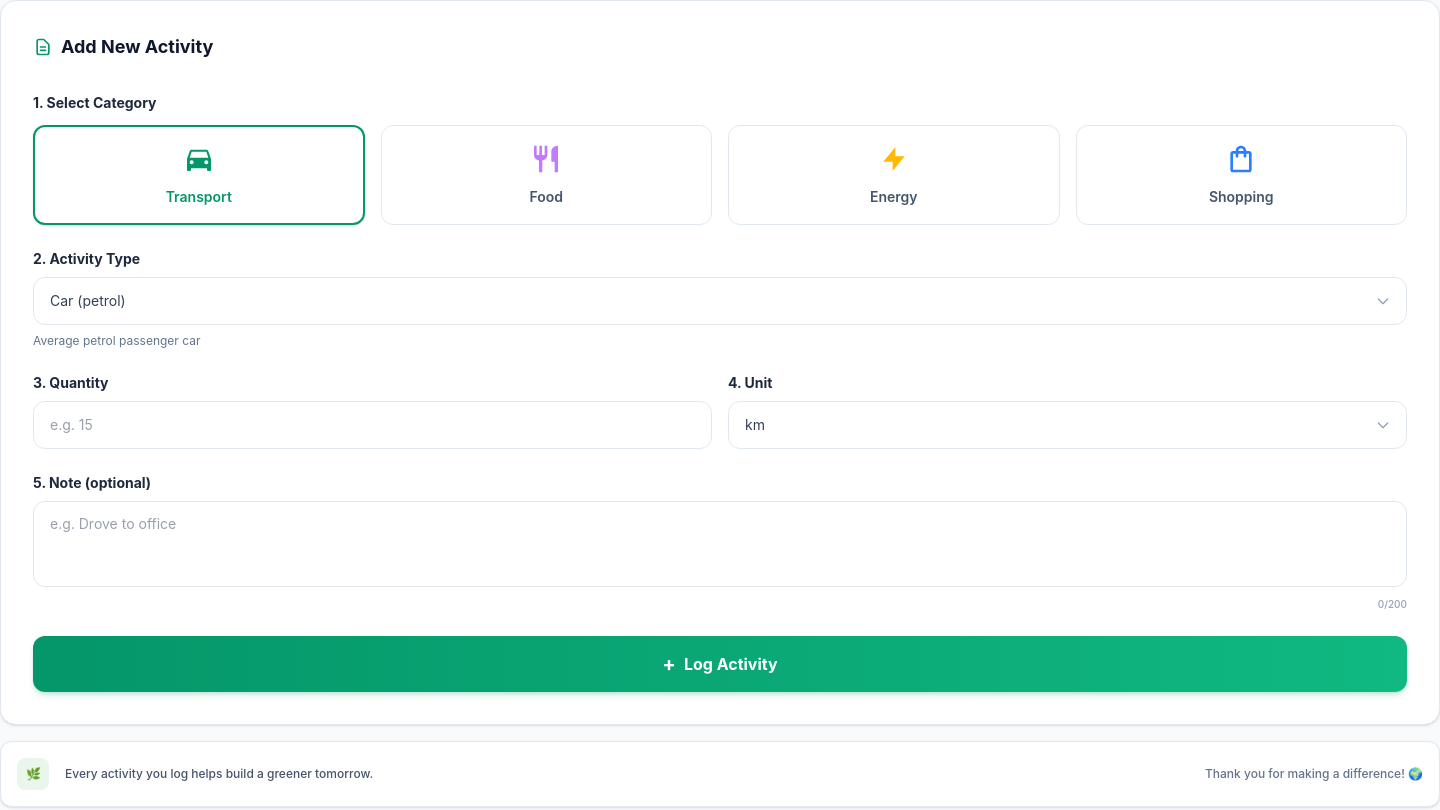
ActivityLogger › shows validation error for zero quantity
Step 1. Click the number field labelled "3. Quantity" → click(372, 425), box [33,401,712,449]
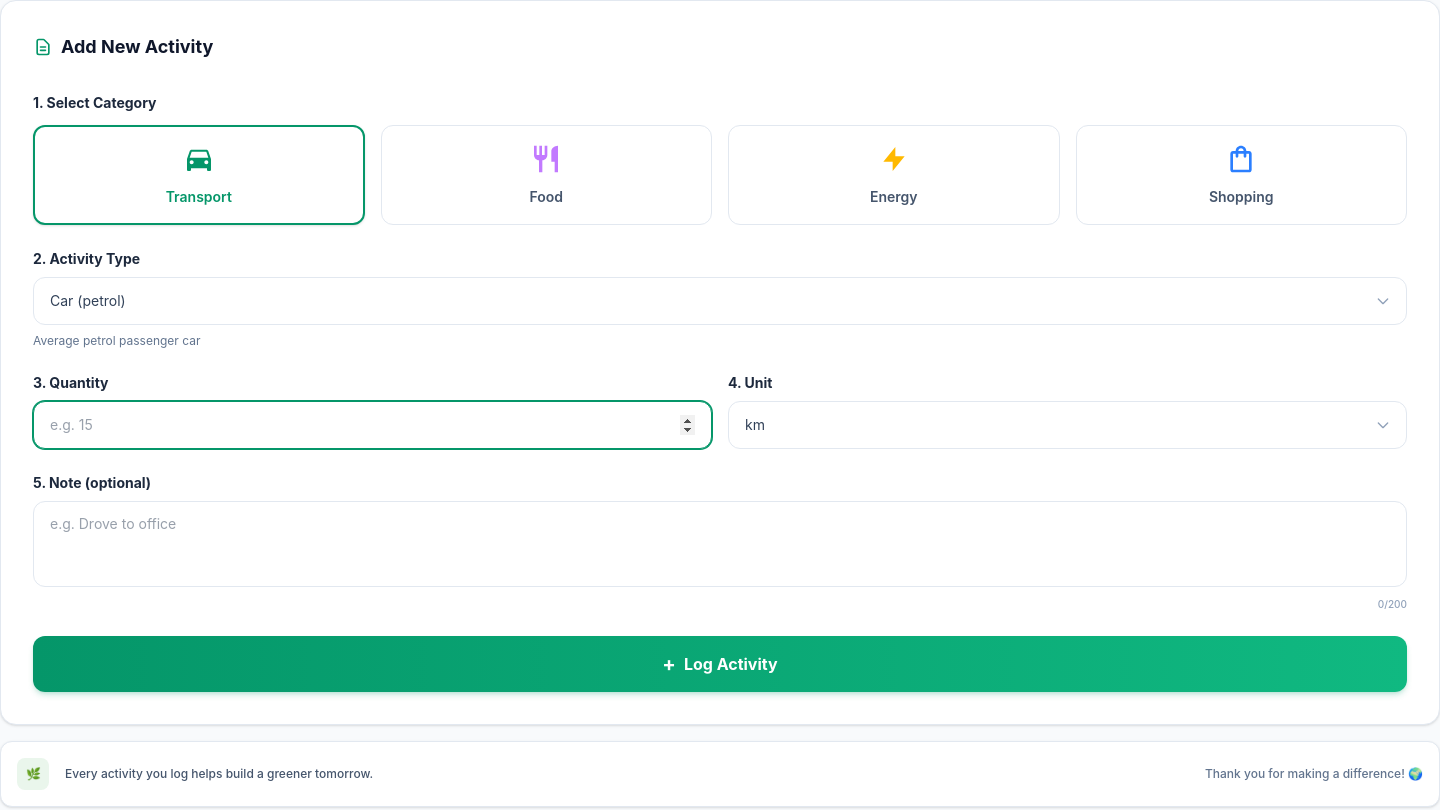
Step 2. Type keys "0"
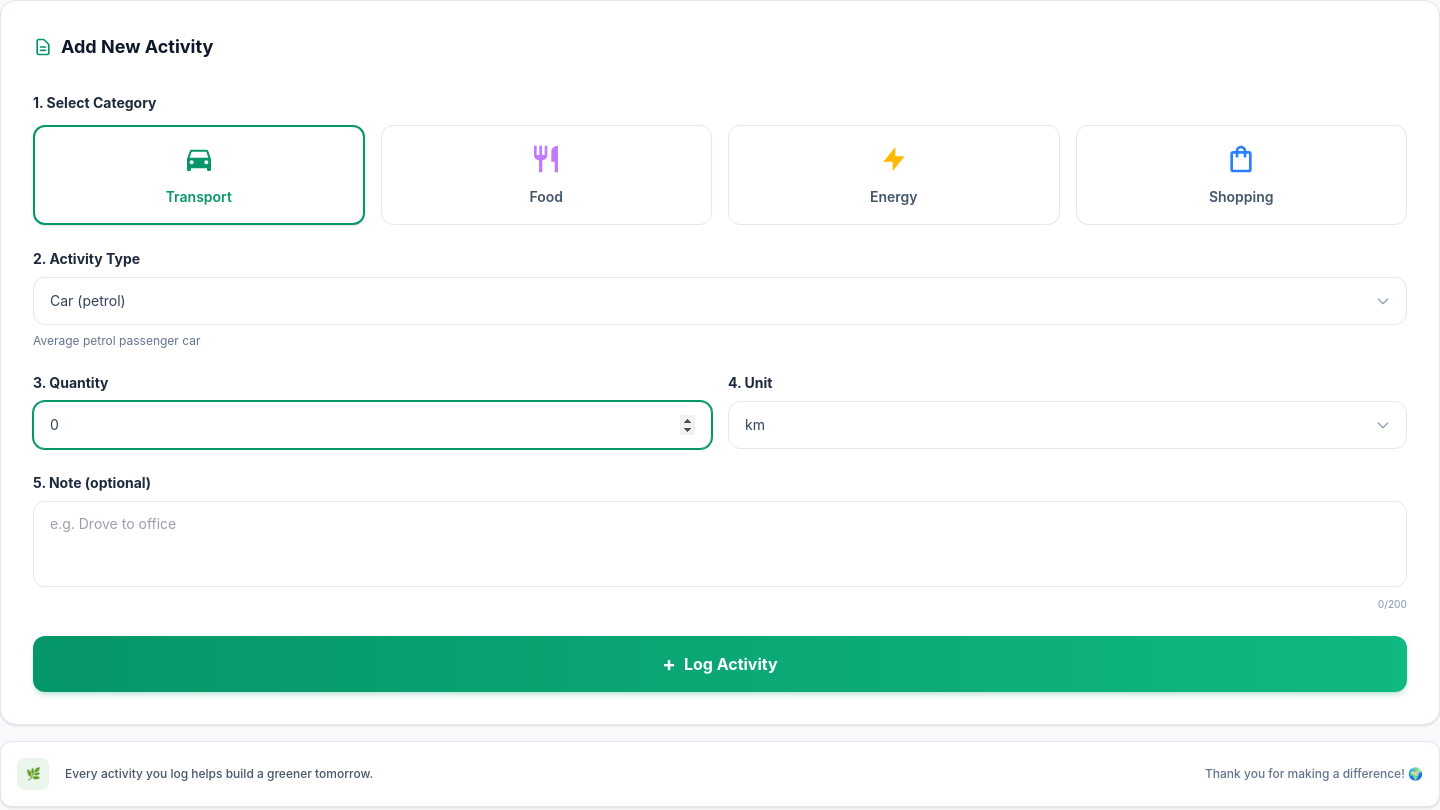
Step 3. Click the button "+ Log Activity" → click(720, 664), box [33,636,1407,692]
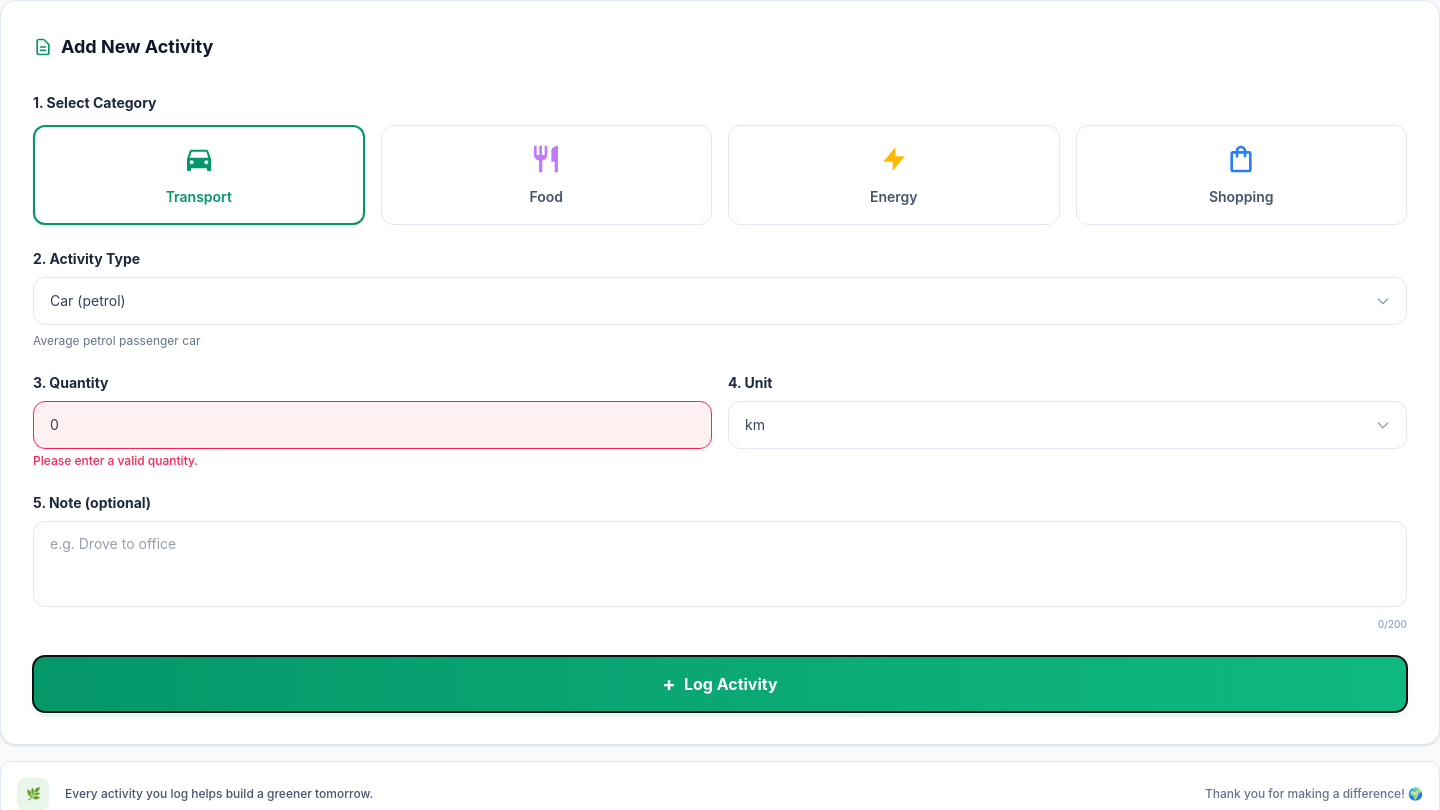
Expected: the message "Please enter a valid quantity." is shown, [33,453,198,468]
